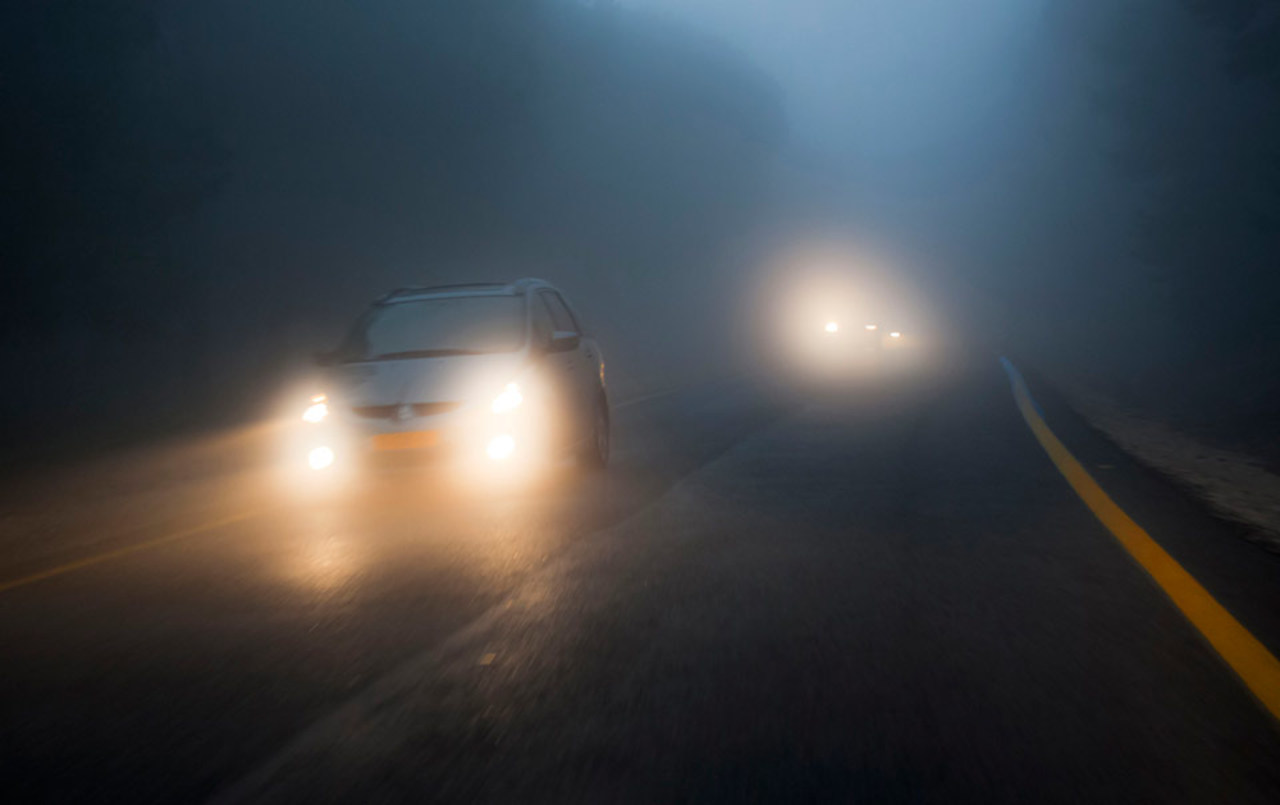car: (295, 279, 603, 489), (818, 289, 884, 349)
